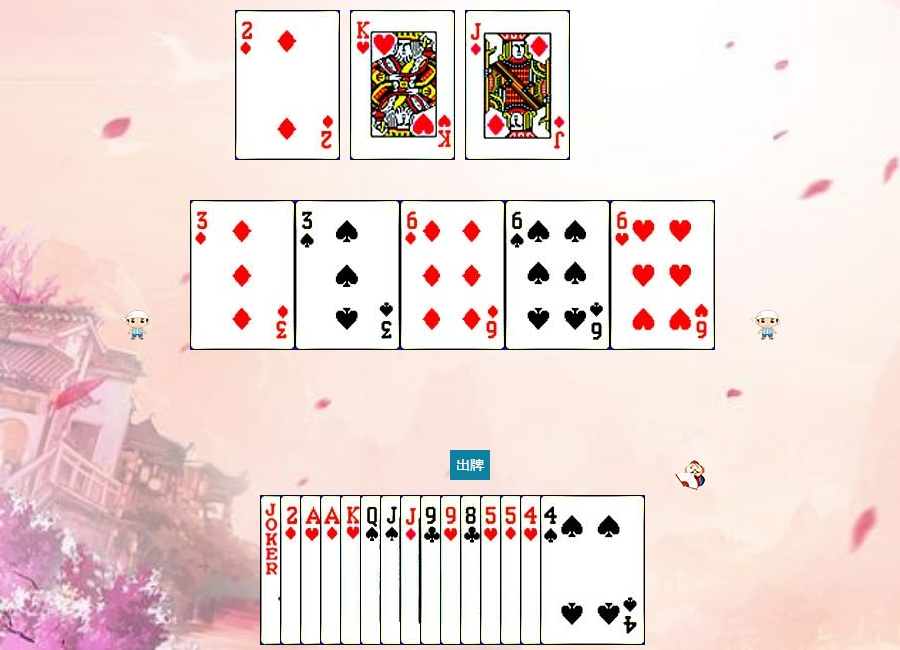11~1: (465, 10, 570, 160), (400, 495, 505, 645)
11~4: (380, 495, 485, 645)
12~4: (360, 495, 465, 645)
13~3: (350, 10, 455, 160), (340, 495, 445, 645)
14~1: (320, 495, 425, 645)
14~3: (300, 495, 405, 645)
15~1: (235, 10, 340, 160), (280, 495, 385, 645)
18~4: (260, 495, 365, 645)
3~1: (190, 200, 295, 350)
3~4: (295, 200, 400, 350)
4~3: (520, 495, 625, 645)
4~4: (540, 495, 645, 645)
5~1: (500, 495, 605, 645)
5~3: (480, 495, 585, 645)
6~1: (400, 200, 505, 350)
6~3: (610, 200, 715, 350)
6~4: (505, 200, 610, 350)
8~2: (460, 495, 565, 645)
9~2: (420, 495, 525, 645)
9~3: (440, 495, 545, 645)
